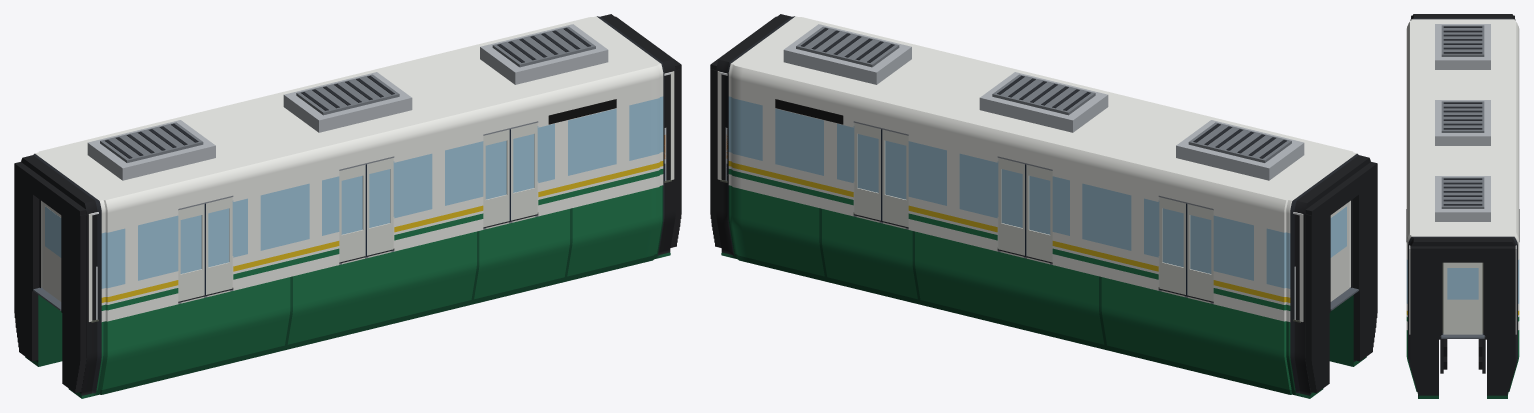
File: chongqing_car.obj
3 renders of one model, left to right at view 1: azimuth 30°, elevation 25°; view 2: azimuth 150°, elevation 25°; view 3: azimuth 270°, elevation 25°, orthographic. The views are drawn at different scales.
Parts seen in each view (by area): view 1: SHELL, SHELL_roof, SHELL_diaphragm, EXTERNAL_DOOR_16_CG_DR3_TOGGLE_TL_-0.59_X, EXTERNAL_DOOR_4_CG_DR1_TOGGLE_TL_-0.59_X, EXTERNAL_DOOR_10_CG_DR2_TOGGLE_TL_-0.59_X, EXTERNAL_DOOR_11_CG_DR2_TOGGLE_TL_0.59_X, EXTERNAL_DOOR_5_CG_DR1_TOGGLE_TL_0.59_X, EXTERNAL_DOOR_17_CG_DR3_TOGGLE_TL_0.59_X, CONNECTING_DOOR_1_CG_CR_TOGGLE_TL_0.98_Z, SHELL_end, SHELL_sign; view 2: SHELL, SHELL_roof, SHELL_diaphragm, EXTERNAL_DOOR_19_CG_DL3_TOGGLE_TL_-0.59_X, EXTERNAL_DOOR_7_CG_DL1_TOGGLE_TL_-0.59_X, EXTERNAL_DOOR_13_CG_DL2_TOGGLE_TL_-0.59_X, EXTERNAL_DOOR_14_CG_DL2_TOGGLE_TL_0.59_X, EXTERNAL_DOOR_8_CG_DL1_TOGGLE_TL_0.59_X, EXTERNAL_DOOR_20_CG_DL3_TOGGLE_TL_0.59_X, CONNECTING_DOOR_1_CG_CR_TOGGLE_TL_0.98_Z, SHELL_end, SHELL_sign; view 3: SHELL, SHELL_diaphragm, SHELL_roof, CONNECTING_DOOR_2_CG_CF_TOGGLE_TL_0.98_Z, BOGEY_FRONT, SHELL_end, SHELL_floor, SHELL_gangway.
Part boxes in pixels (x1=…): SHELL: x1=21, y1=14, x2=675, y2=398; SHELL_roof: x1=87, y1=24, x2=608, y2=180; SHELL_diaphragm: x1=14, y1=16, x2=681, y2=393; EXTERNAL_DOOR_16_CG_DR3_TOGGLE_TL_-0.59_X: x1=483, y1=129, x2=510, y2=227; EXTERNAL_DOOR_4_CG_DR1_TOGGLE_TL_-0.59_X: x1=178, y1=203, x2=205, y2=301; EXTERNAL_DOOR_10_CG_DR2_TOGGLE_TL_-0.59_X: x1=339, y1=164, x2=366, y2=262; EXTERNAL_DOOR_11_CG_DR2_TOGGLE_TL_0.59_X: x1=367, y1=158, x2=393, y2=255; EXTERNAL_DOOR_5_CG_DR1_TOGGLE_TL_0.59_X: x1=206, y1=197, x2=232, y2=294; EXTERNAL_DOOR_17_CG_DR3_TOGGLE_TL_0.59_X: x1=511, y1=122, x2=537, y2=220; CONNECTING_DOOR_1_CG_CR_TOGGLE_TL_0.98_Z: x1=42, y1=202, x2=61, y2=301; SHELL_end: x1=41, y1=71, x2=674, y2=321; SHELL_sign: x1=548, y1=99, x2=616, y2=124; SHELL: x1=716, y1=14, x2=1370, y2=398; SHELL_roof: x1=783, y1=24, x2=1304, y2=180; SHELL_diaphragm: x1=710, y1=16, x2=1377, y2=393; EXTERNAL_DOOR_19_CG_DL3_TOGGLE_TL_-0.59_X: x1=881, y1=129, x2=908, y2=227; EXTERNAL_DOOR_7_CG_DL1_TOGGLE_TL_-0.59_X: x1=1186, y1=203, x2=1213, y2=301; EXTERNAL_DOOR_13_CG_DL2_TOGGLE_TL_-0.59_X: x1=1025, y1=164, x2=1052, y2=262; EXTERNAL_DOOR_14_CG_DL2_TOGGLE_TL_0.59_X: x1=998, y1=158, x2=1024, y2=255; EXTERNAL_DOOR_8_CG_DL1_TOGGLE_TL_0.59_X: x1=1159, y1=197, x2=1185, y2=294; EXTERNAL_DOOR_20_CG_DL3_TOGGLE_TL_0.59_X: x1=854, y1=122, x2=880, y2=220; CONNECTING_DOOR_1_CG_CR_TOGGLE_TL_0.98_Z: x1=1330, y1=202, x2=1349, y2=301; SHELL_end: x1=717, y1=71, x2=1350, y2=321; SHELL_sign: x1=775, y1=99, x2=843, y2=124; SHELL: x1=1406, y1=14, x2=1519, y2=398; SHELL_diaphragm: x1=1410, y1=15, x2=1515, y2=395; SHELL_roof: x1=1435, y1=24, x2=1490, y2=221; CONNECTING_DOOR_2_CG_CF_TOGGLE_TL_0.98_Z: x1=1443, y1=262, x2=1482, y2=334; BOGEY_FRONT: x1=1440, y1=337, x2=1485, y2=373; SHELL_end: x1=1409, y1=248, x2=1516, y2=334; SHELL_floor: x1=1442, y1=262, x2=1483, y2=333; SHELL_gangway: x1=1441, y1=333, x2=1484, y2=338.
Bounding box in the file's own units: 14.22 × 4.81 × 2.92.
Materials: 1 (1 with a texture image).
